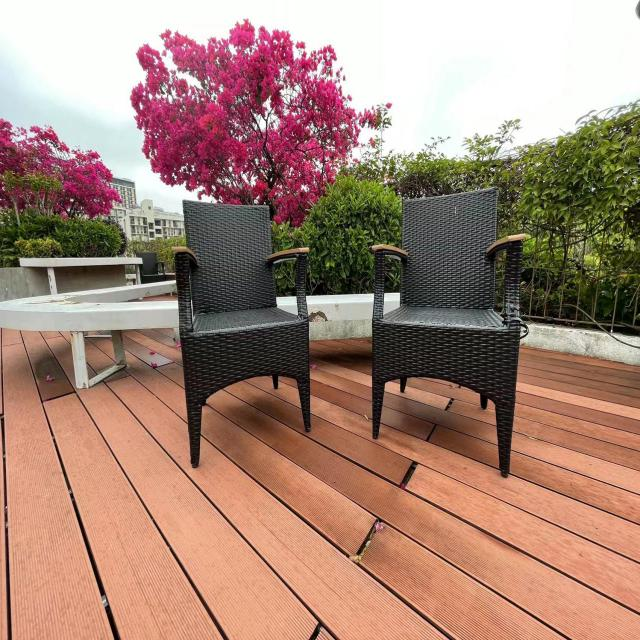chair: (365, 185, 535, 484), (170, 189, 316, 456)
